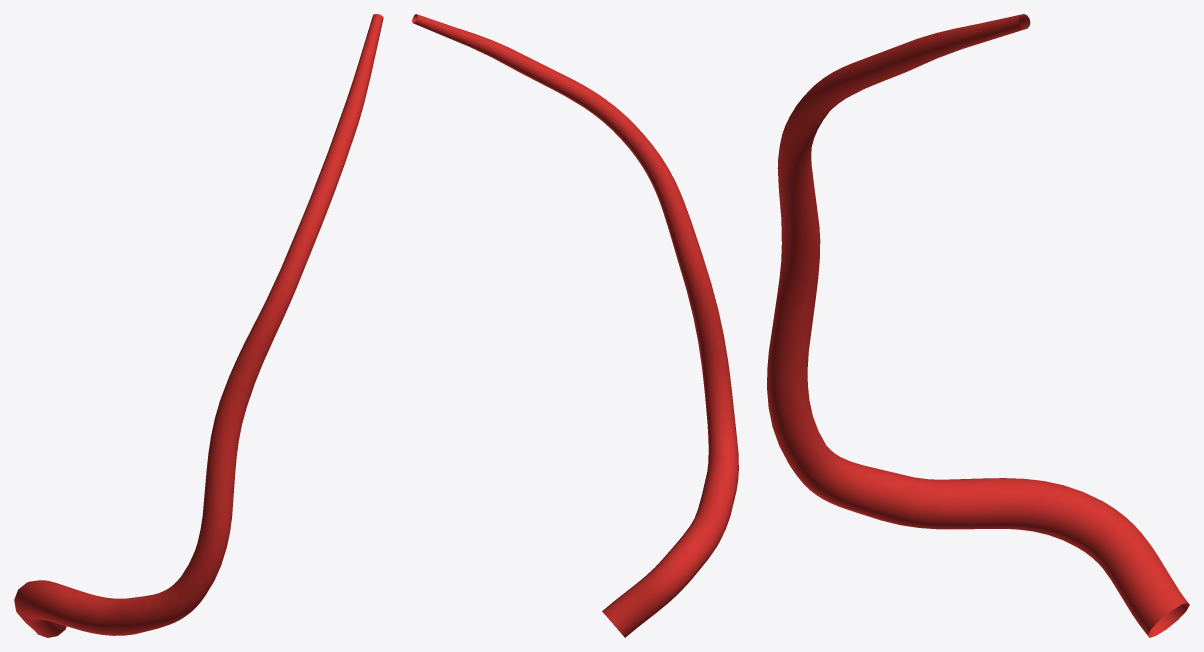
File: circulatorio-frontal-branches-of-callosomarginal-artery-l.glb
3 renders of one model, left to right at view 1: azimuth 30°, elevation 25°; view 2: azimuth 150°, elevation 25°; view 3: azimuth 270°, elevation 25°, orthographic. The views are drawn at different scales.
Parts seen in each view (by area): view 1: Frontal branches of callosomarginal artery.l; view 2: Frontal branches of callosomarginal artery.l; view 3: Frontal branches of callosomarginal artery.l.
Part boxes in pixels (x1,y1,x2,y2): Frontal branches of callosomarginal artery.l: (14,14,383,637); Frontal branches of callosomarginal artery.l: (412,14,738,637); Frontal branches of callosomarginal artery.l: (767,14,1189,637).
Size of the model in its own units: 0.0139 by 0.0231 by 0.0109.
